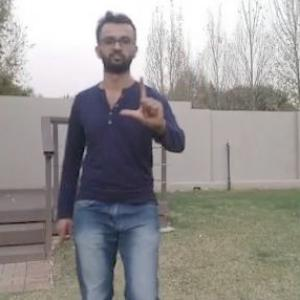land_hand: (118, 68, 169, 131)
